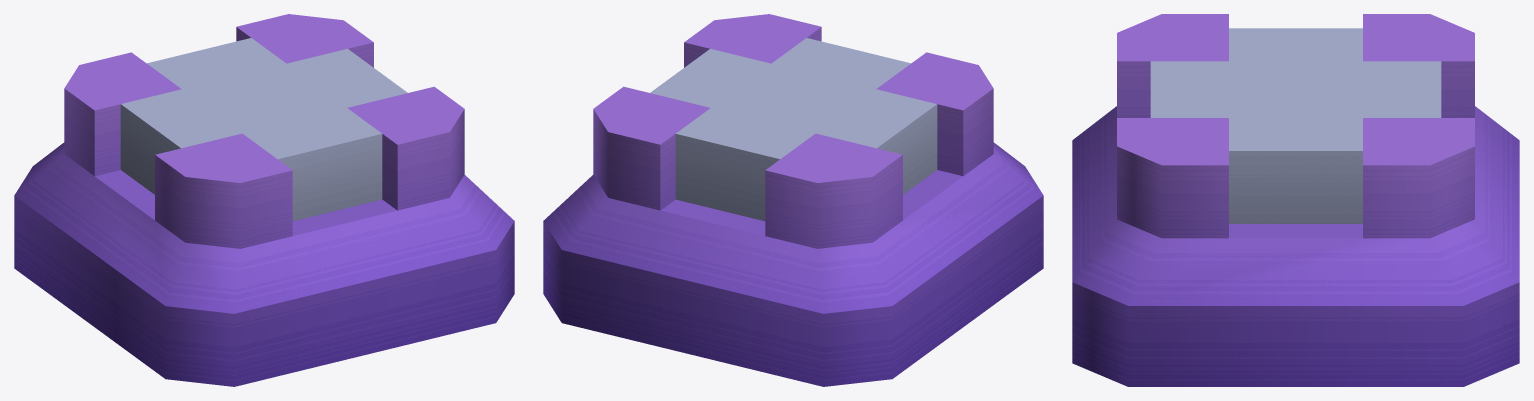
File: tower-defense-kit--tower-square-bottom-c.glb
3 renders of one model, left to right at view 1: azimuth 30°, elevation 25°; view 2: azimuth 150°, elevation 25°; view 3: azimuth 270°, elevation 25°, orthographic. The views are drawn at different scales.
Parts seen in each view (by area): view 1: tower-square-bottom-c; view 2: tower-square-bottom-c; view 3: tower-square-bottom-c.
Boxes of the visible parts, left/top/right/bottom form: tower-square-bottom-c: left=14, top=14, right=514, bottom=386; tower-square-bottom-c: left=543, top=14, right=1043, bottom=386; tower-square-bottom-c: left=1072, top=14, right=1519, bottom=386.
Bounding box in the file's own units: 1 × 0.5 × 1.
1 material, 1 textured.
